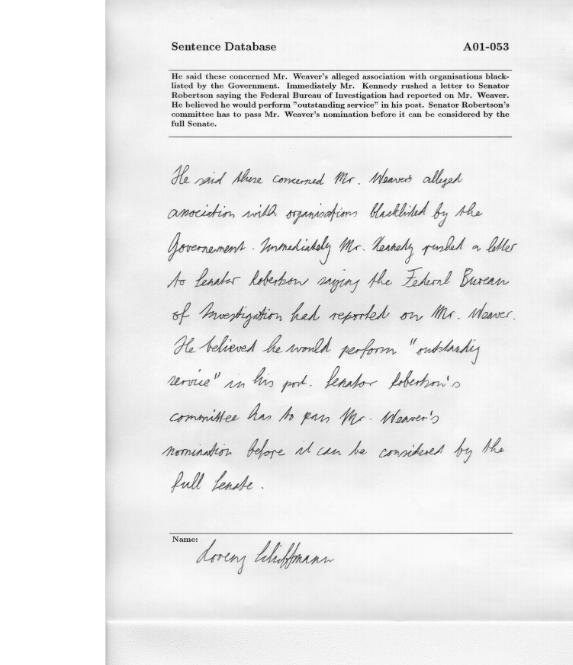text: (162, 228, 521, 267), (164, 263, 512, 295), (156, 432, 508, 462), (170, 332, 483, 365), (169, 298, 519, 327), (163, 197, 489, 228), (163, 362, 463, 392), (167, 161, 464, 189), (165, 400, 442, 429), (169, 69, 512, 81), (170, 99, 511, 111), (169, 108, 511, 119), (169, 89, 511, 99), (169, 81, 510, 91), (166, 468, 266, 496), (168, 39, 279, 53), (460, 39, 511, 54), (172, 117, 218, 128)
